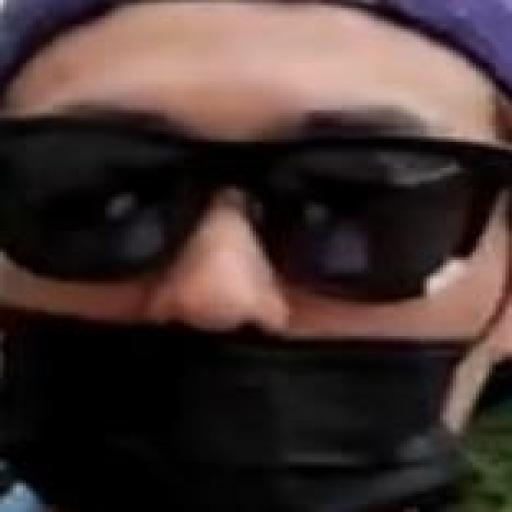mask: (0, 107, 512, 512)
